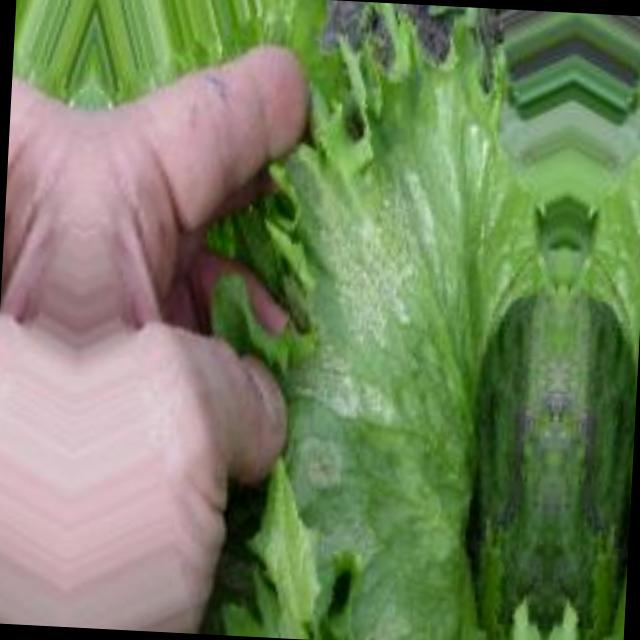Downy_mildew: (314, 156, 446, 342), (296, 354, 407, 419), (456, 116, 492, 150)
